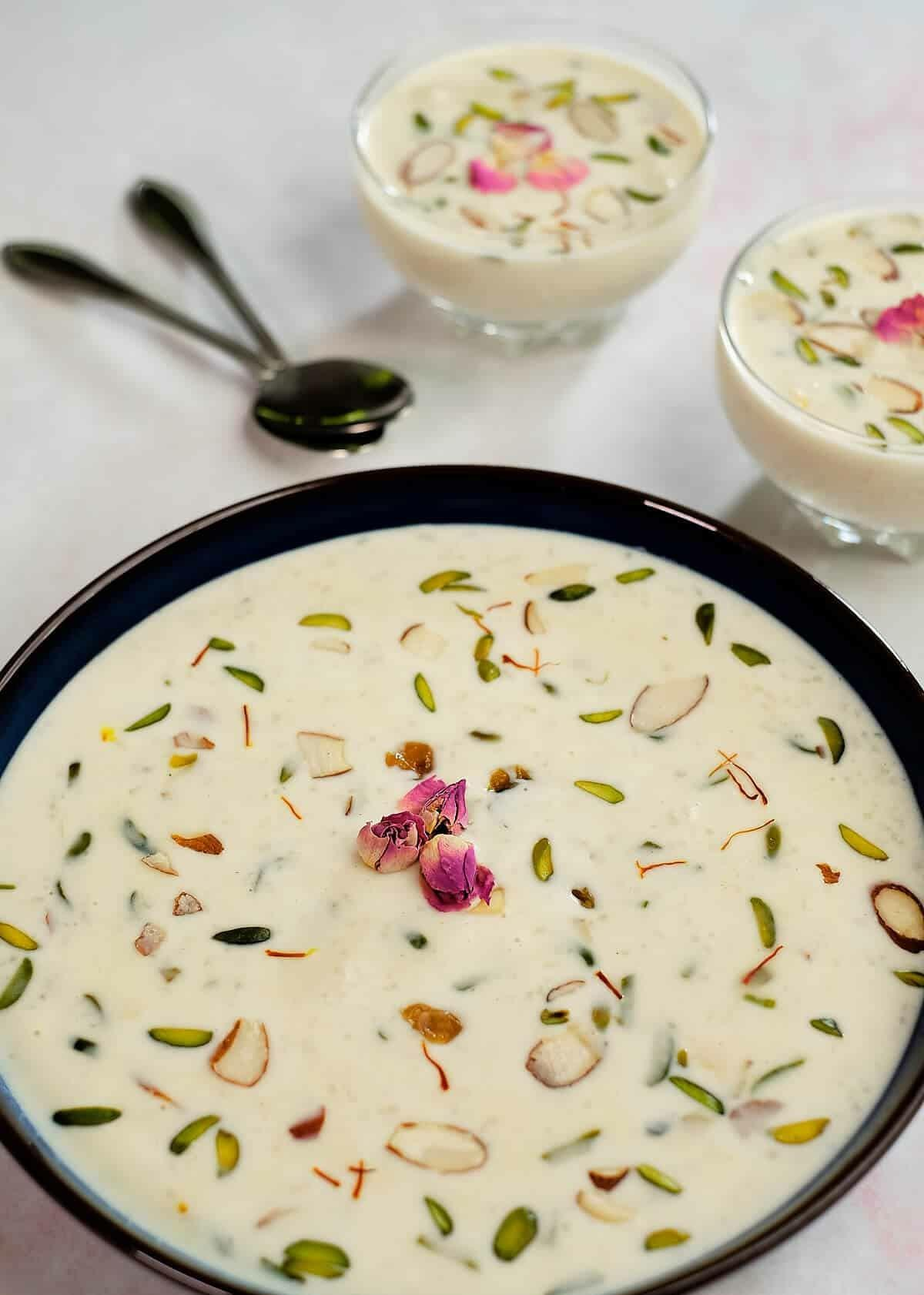Kheer: (3, 523, 924, 1295), (359, 50, 710, 313), (723, 202, 924, 516)
